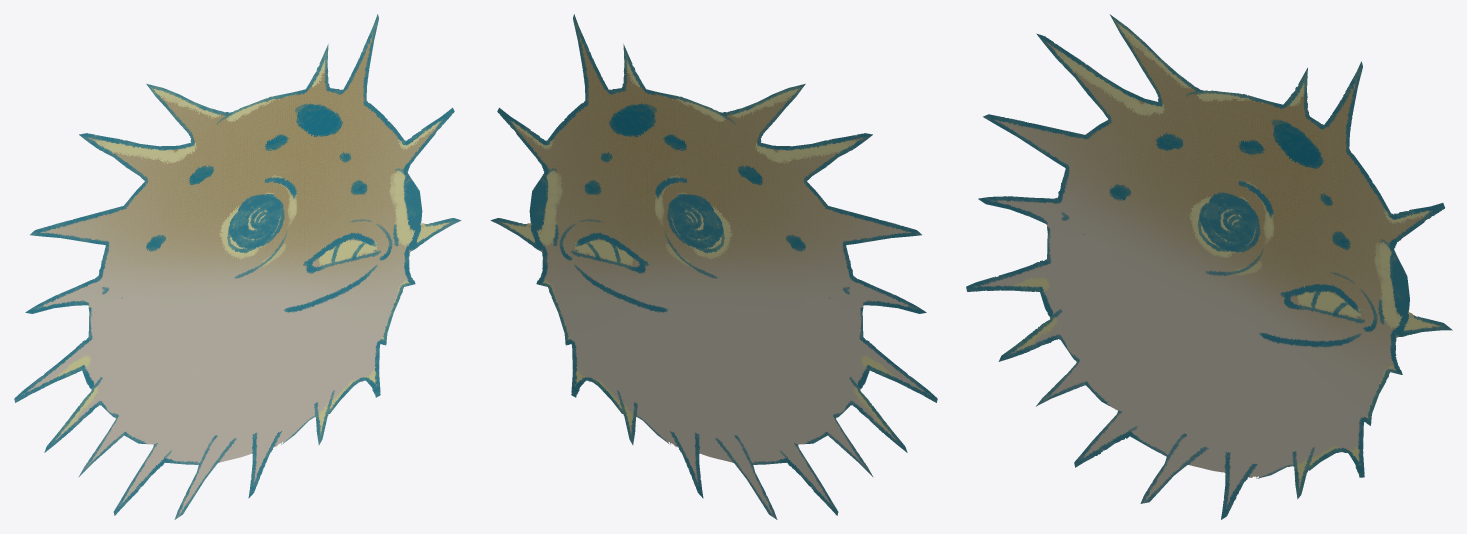
File: puffer_5.fbx
3 views of the same model, side by side, from view 1: azimuth 30°, elevation 25°; view 2: azimuth 150°, elevation 25°; view 3: azimuth 330°, elevation 25° (orthographic). The views are drawn at different scales.
Parts seen in each view (by area): view 1: mask30; view 2: mask30; view 3: mask30.
Part boxes in pixels (x1,y1,x2,y2): mask30: (14, 14, 461, 519); mask30: (490, 14, 937, 519); mask30: (966, 14, 1452, 519).
Size of the model in its own units: 8.62 by 8.4 by 1.53e-07.
Materials: 1 (1 with a texture image).
